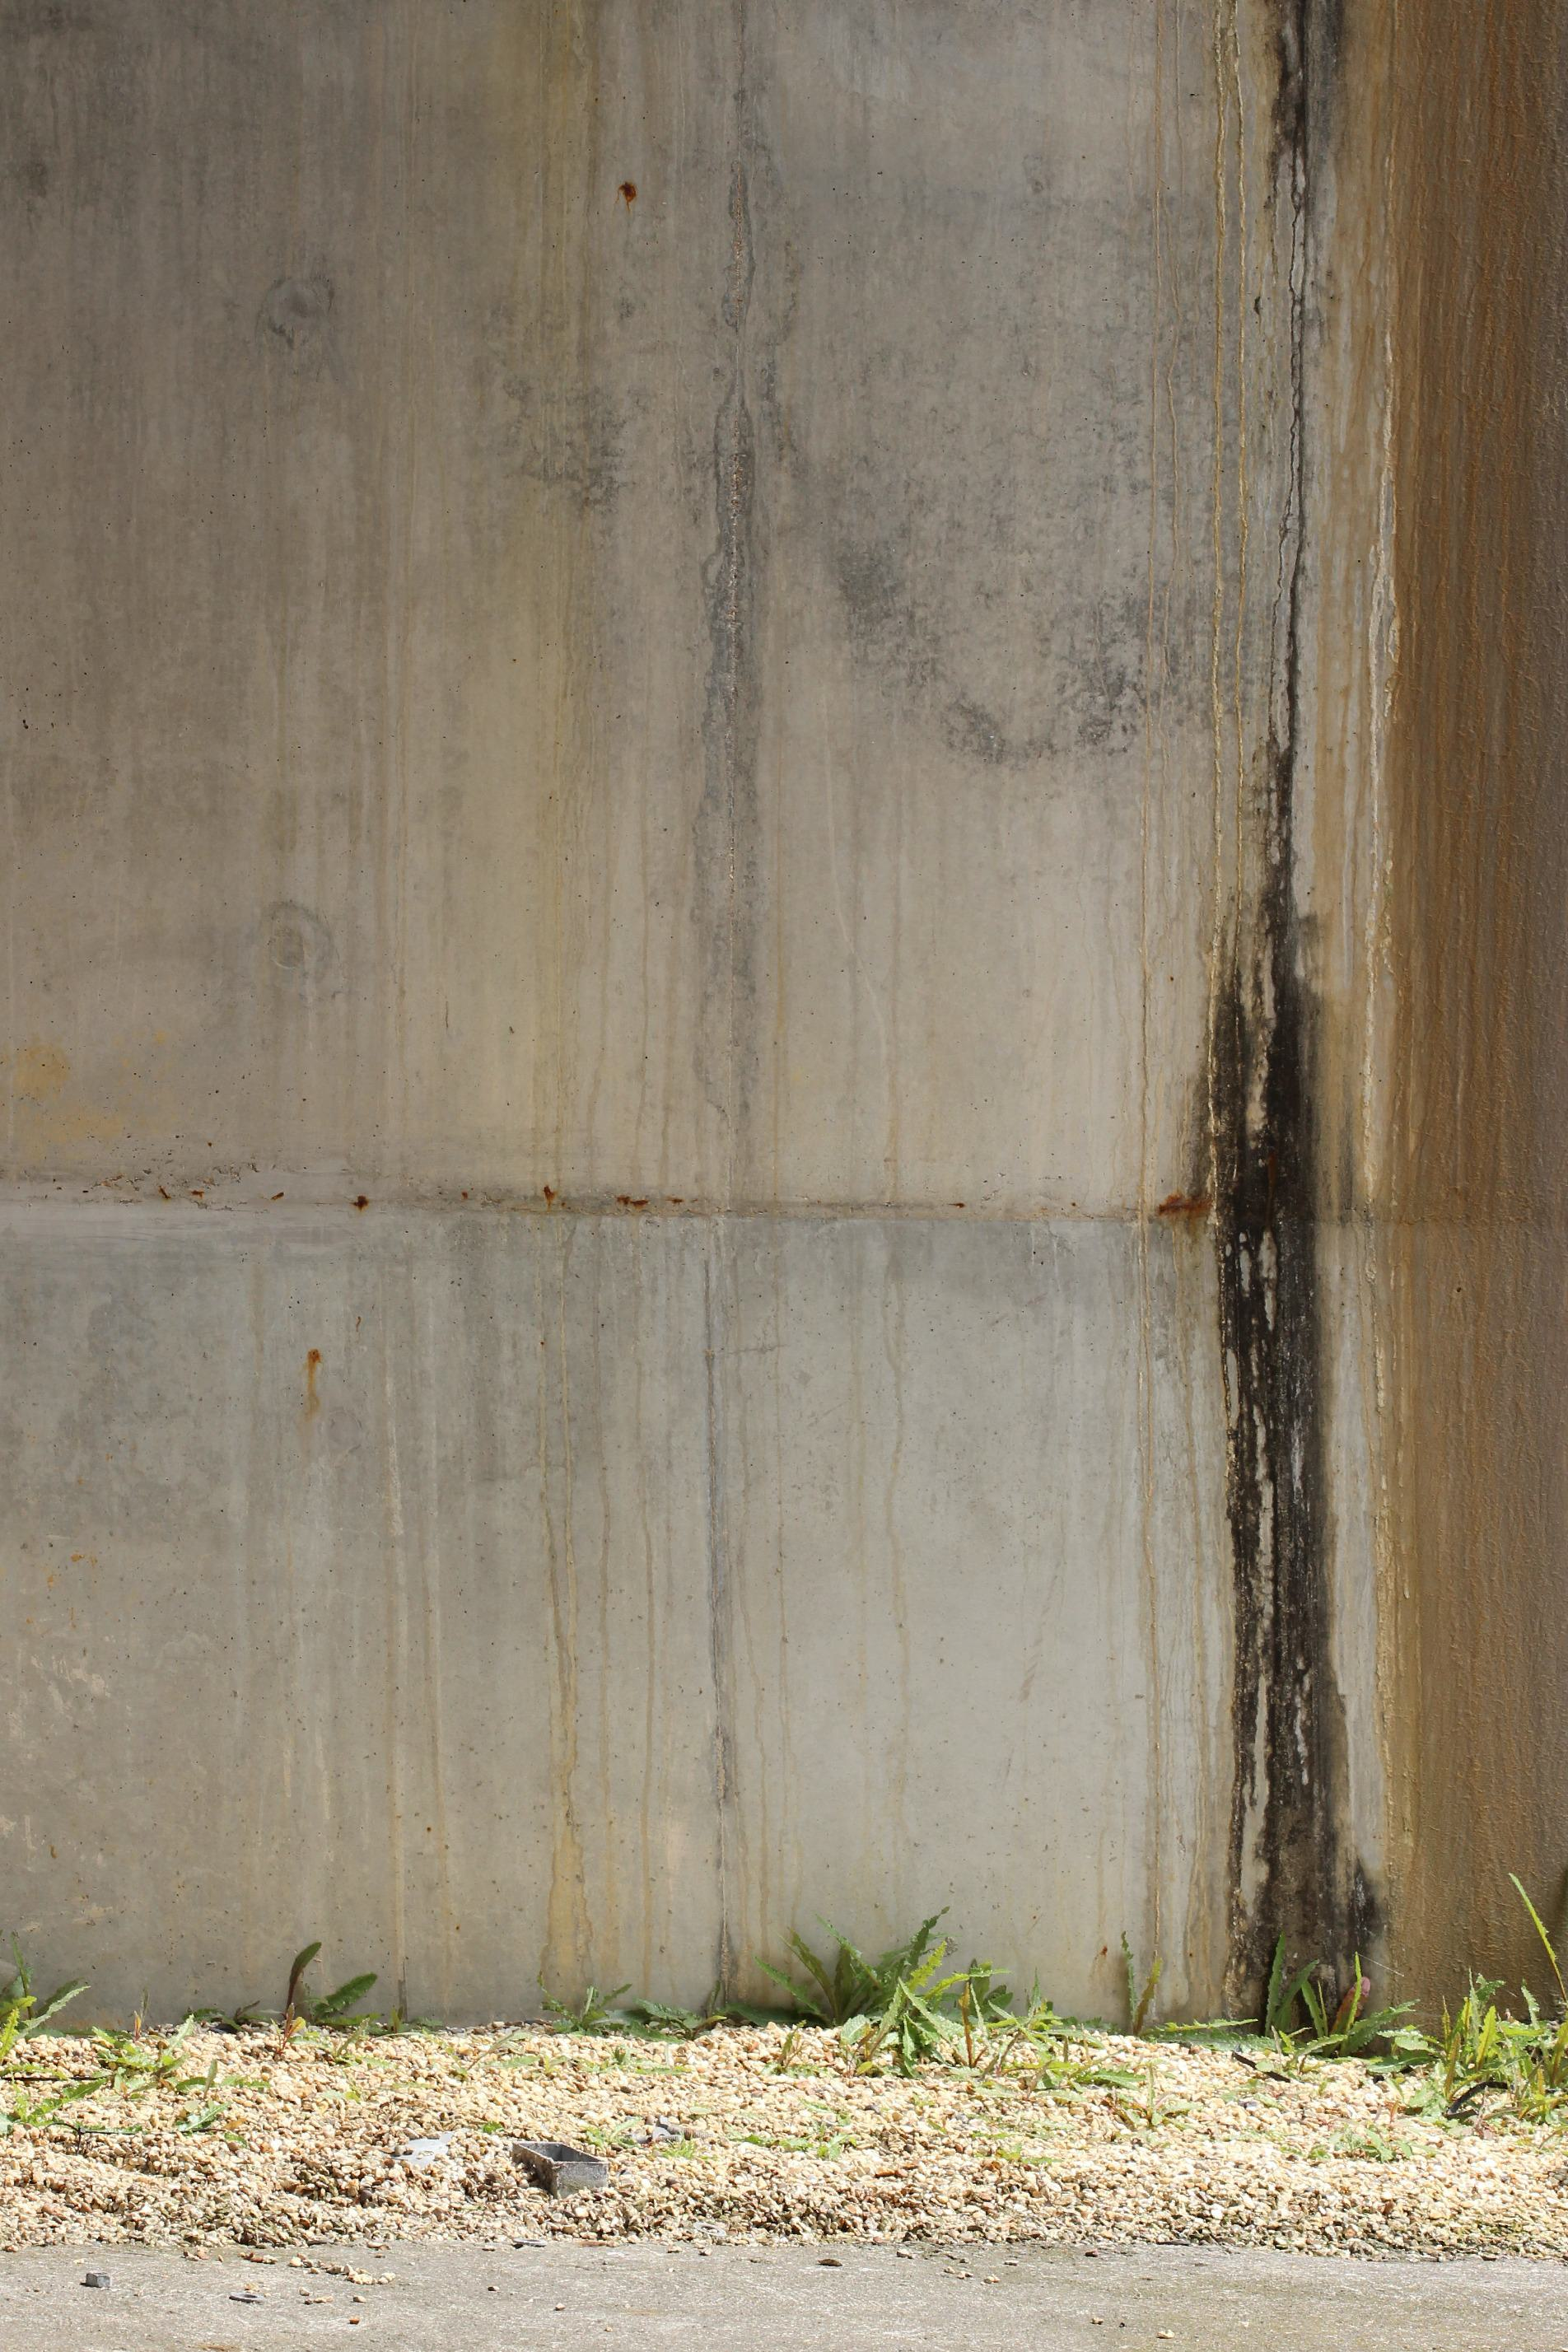Corrosion: (1123, 0, 1381, 2030), (1377, 0, 1568, 2030), (308, 1347, 322, 1416), (612, 180, 635, 215), (614, 1195, 649, 1207), (352, 1193, 369, 1211), (542, 1185, 555, 1202), (157, 1185, 170, 1200), (269, 1190, 285, 1200), (947, 1202, 966, 1209), (191, 1190, 205, 1199), (670, 1197, 684, 1206), (462, 1190, 469, 1199)
